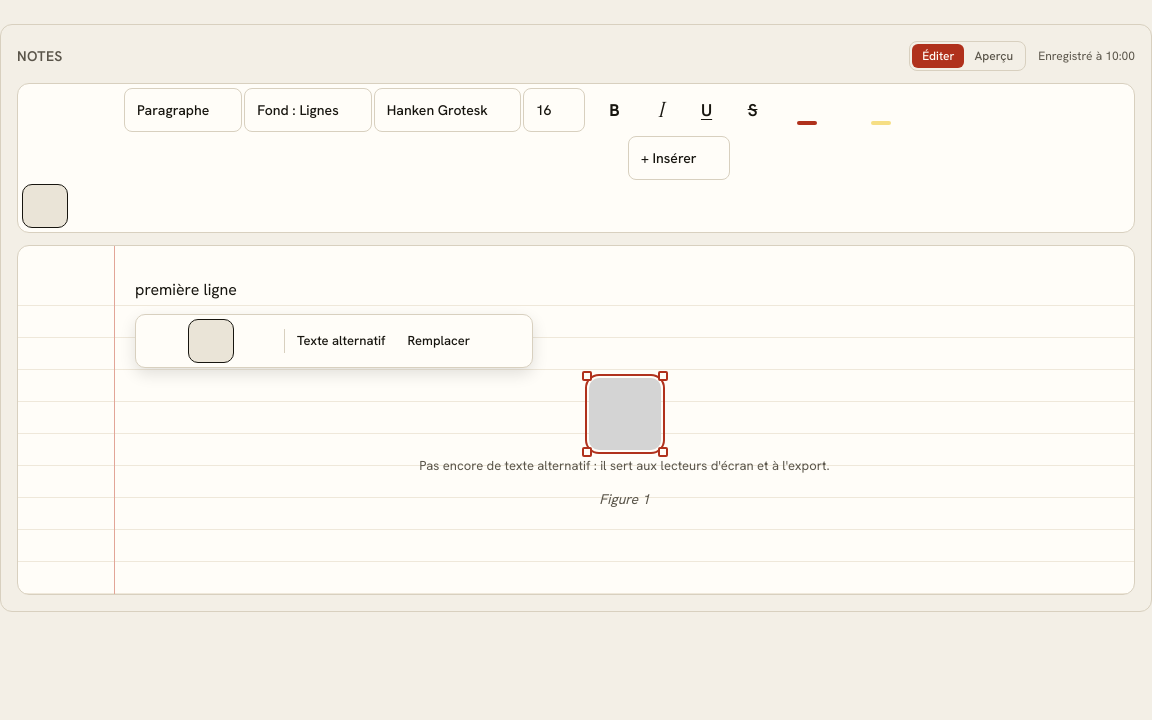
Scenario: images in a note (YC-50) › the block, Figma 65:2007 › in « Aperçu », the caption is shown and nothing can be changed
Expected: the field named "Note de la vidéo" shows "première", [18,246,1134,594]
Click the button "Aperçu" at x=994, y=56, box [964,44,1023,68]
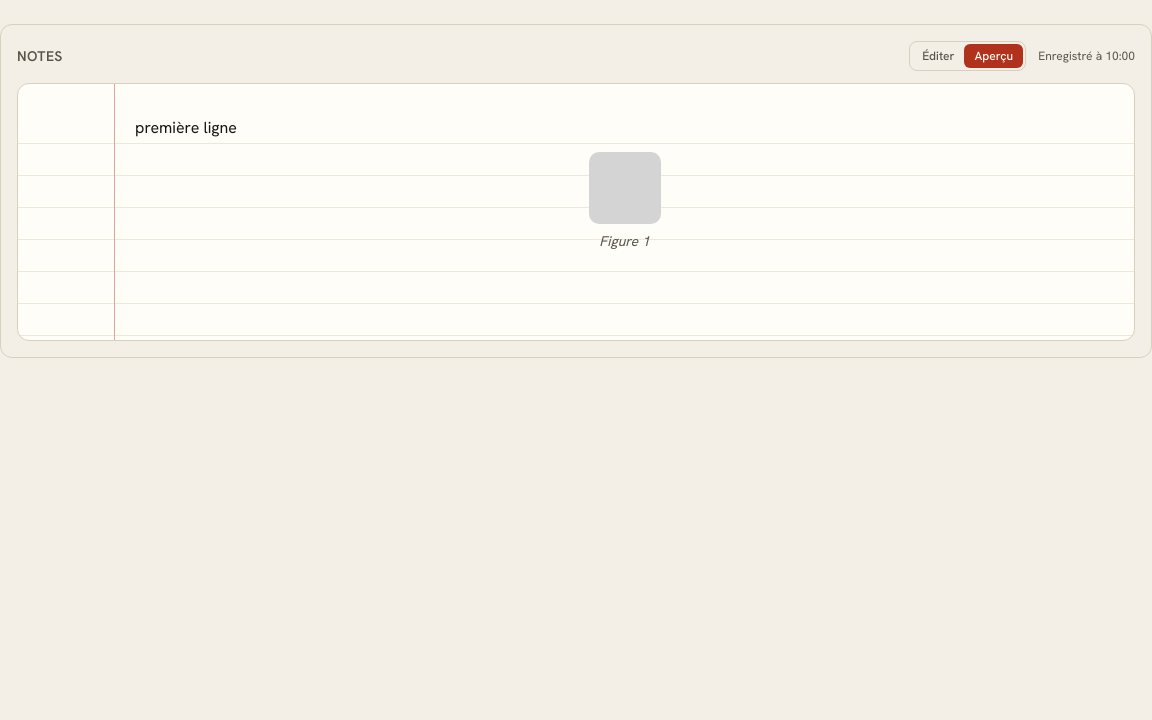
Expected: the button "Image" is gone
Expected: the text "Figure 1" is shown, [599,232,650,250]
